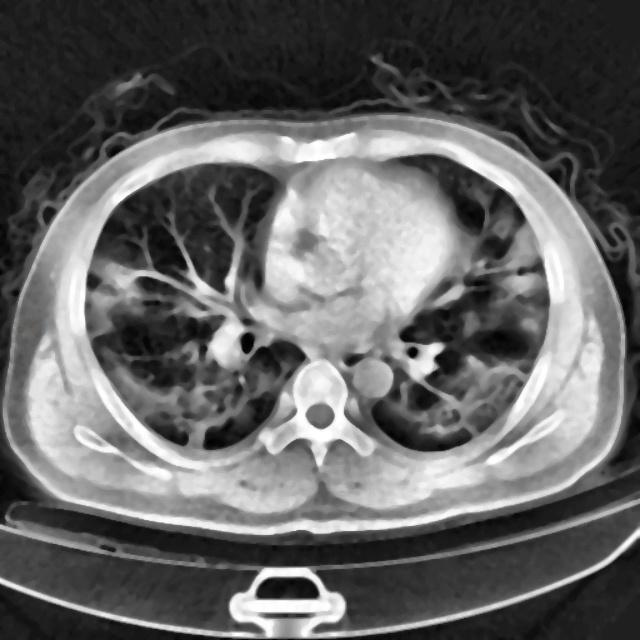covid: (2, 87, 630, 542)
